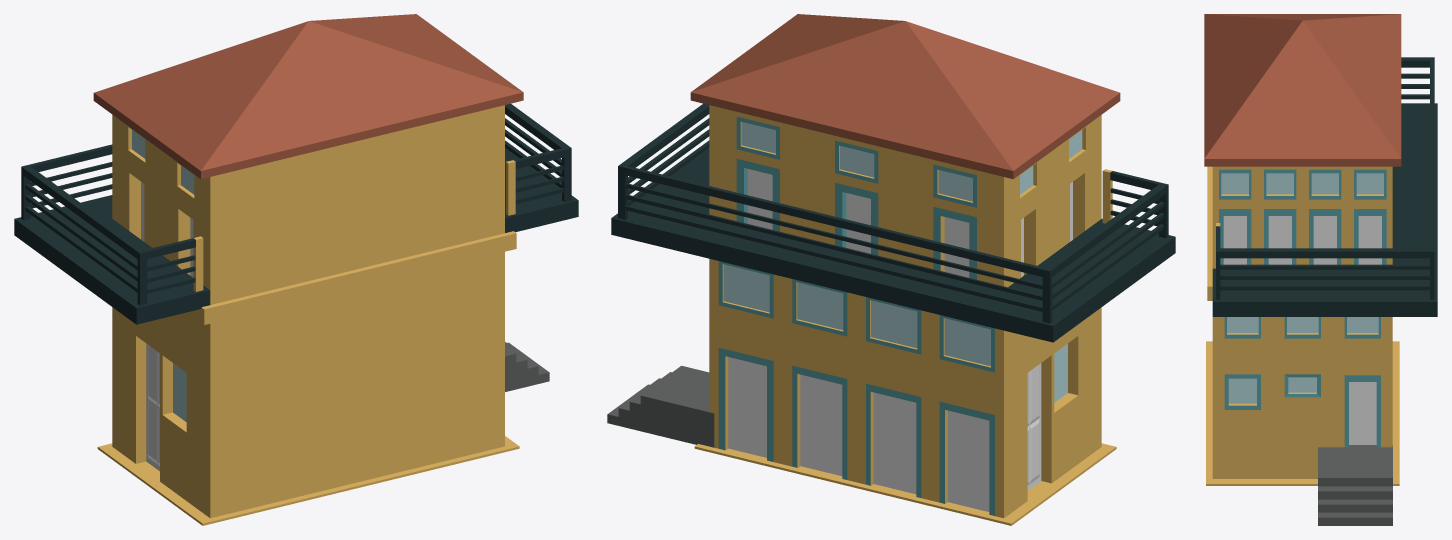
Rendered from edificio.fbx.
3 renders of one model, left to right at view 1: azimuth 30°, elevation 25°; view 2: azimuth 150°, elevation 25°; view 3: azimuth 270°, elevation 25°, orthographic. The views are drawn at different scales.
Parts seen in each view (by area): view 1: building_002; view 2: building_002; view 3: building_002.
Boxes of the visible parts, x1,y1,x2,y2 form: building_002: [14, 14, 578, 525]; building_002: [607, 14, 1175, 525]; building_002: [1204, 14, 1437, 525].
Bounding box in the file's own units: 1194 × 1038 × 558.
